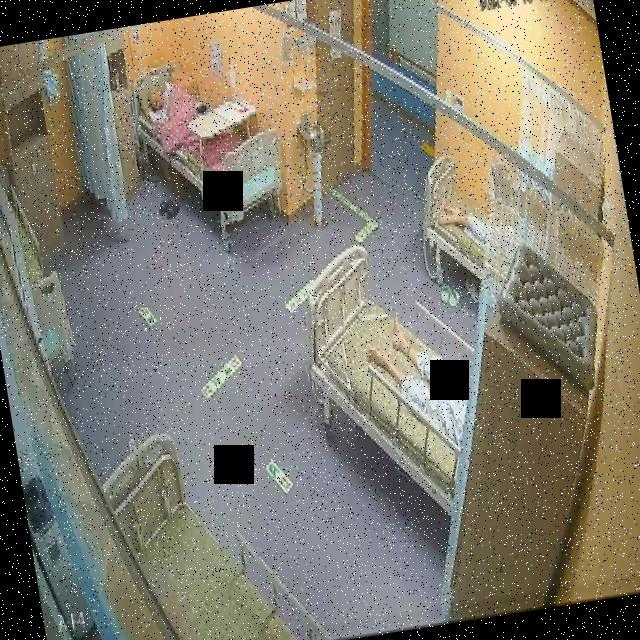bed: (294, 232, 488, 526), (94, 408, 333, 640), (128, 51, 290, 233), (413, 150, 497, 288)
lie: (364, 301, 479, 457), (140, 66, 234, 162)
patient: (364, 302, 478, 458), (141, 74, 184, 130)
